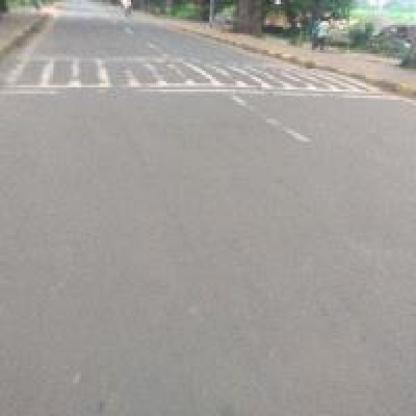Speed Bump: (3, 56, 394, 102)
